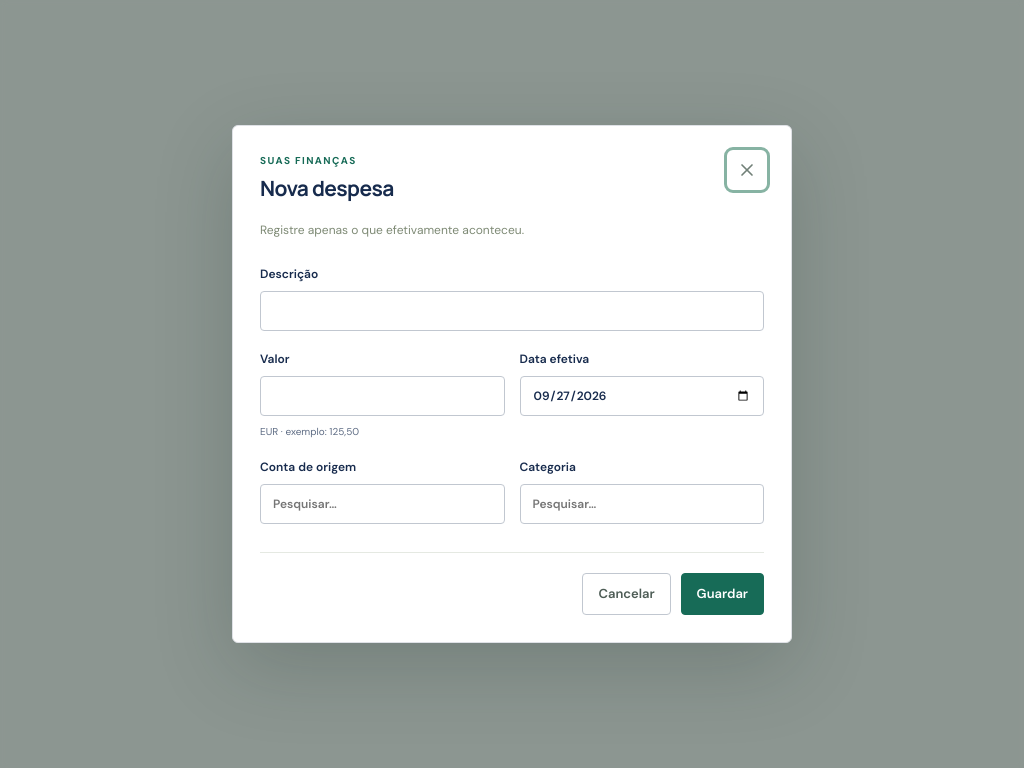
financial UI flows › normalizes comma decimals and preserves user values after server rejection
Type "Mercado" into the field labelled "Descrição".
click(512, 311); type("Mercado")  # box [260, 291, 764, 331]
Type "12,50" into the field labelled "Valor EUR · exemplo: 125,50".
click(382, 396); type("12,50")  # box [260, 376, 504, 416]
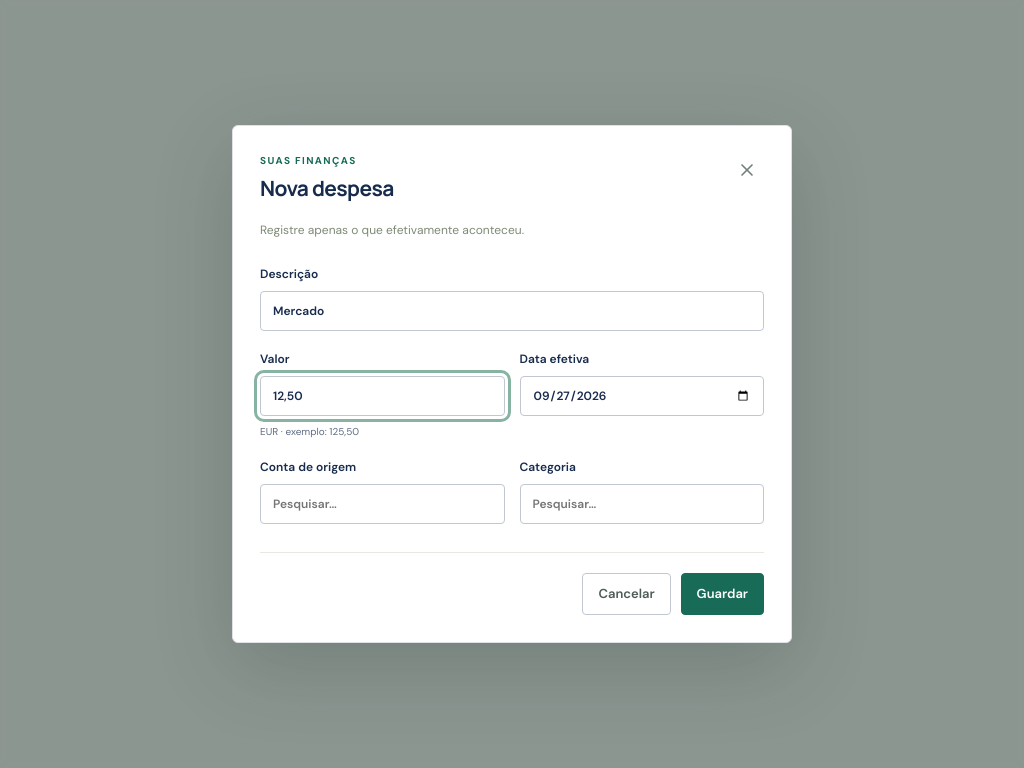
Click the dropdown labelled "Conta de origem".
click(382, 504)  # box [260, 484, 504, 524]
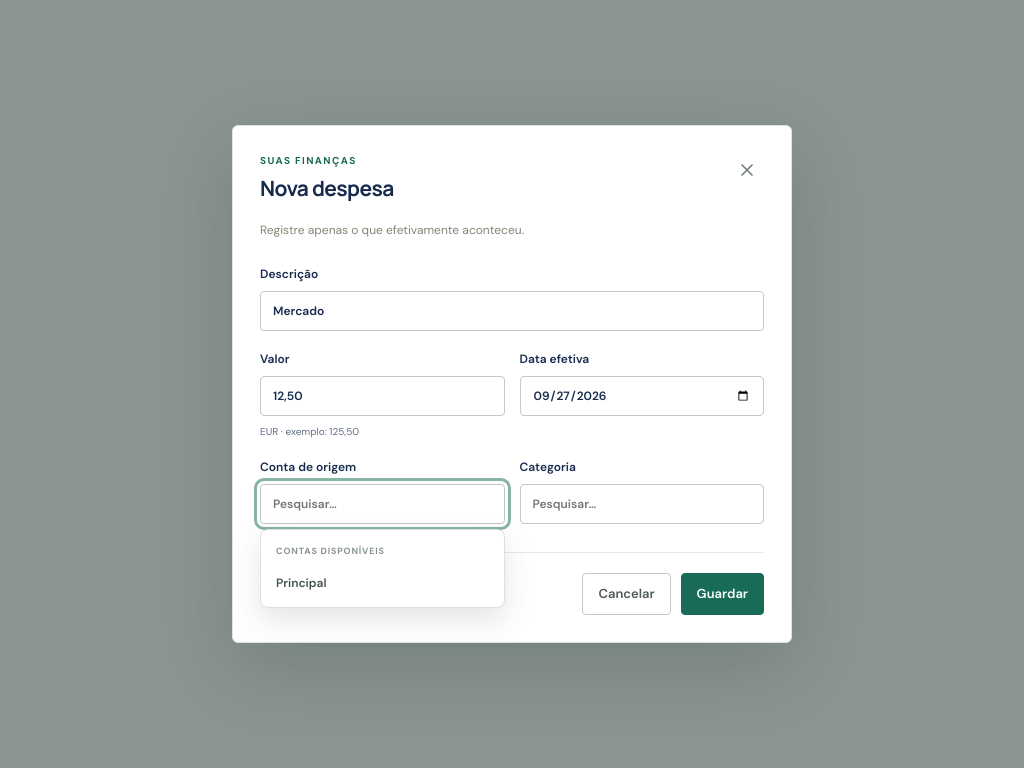
Click the option "Principal".
click(382, 583)  # box [266, 564, 498, 602]
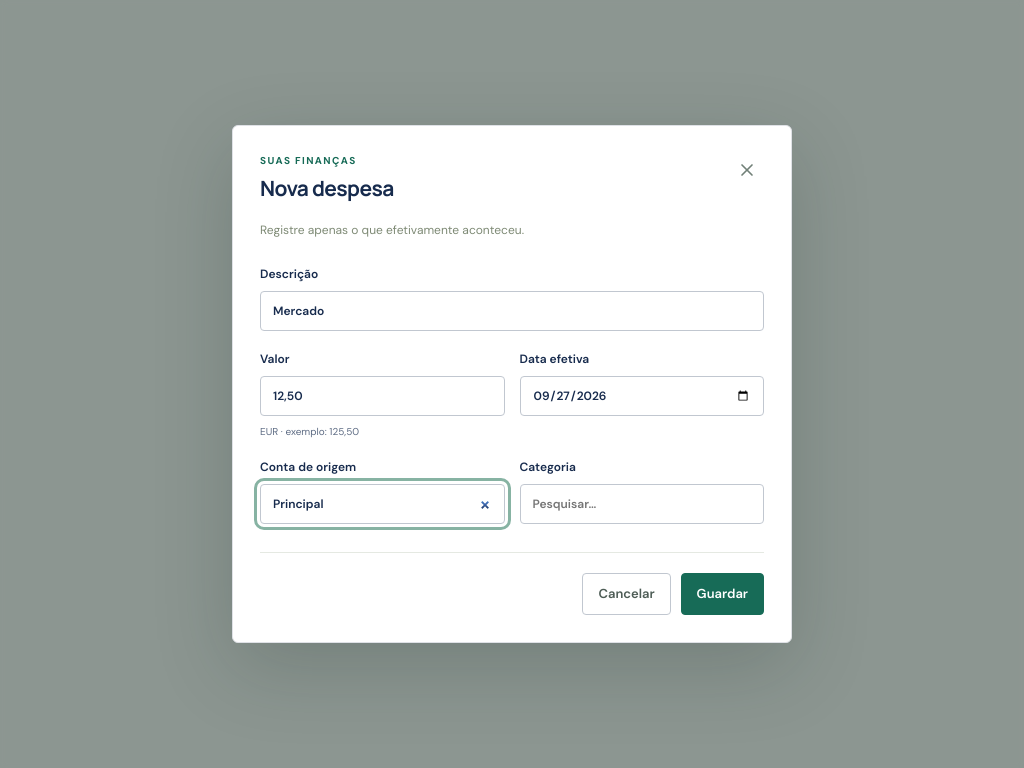
Click the dropdown labelled "Categoria".
click(642, 504)  # box [520, 484, 764, 524]
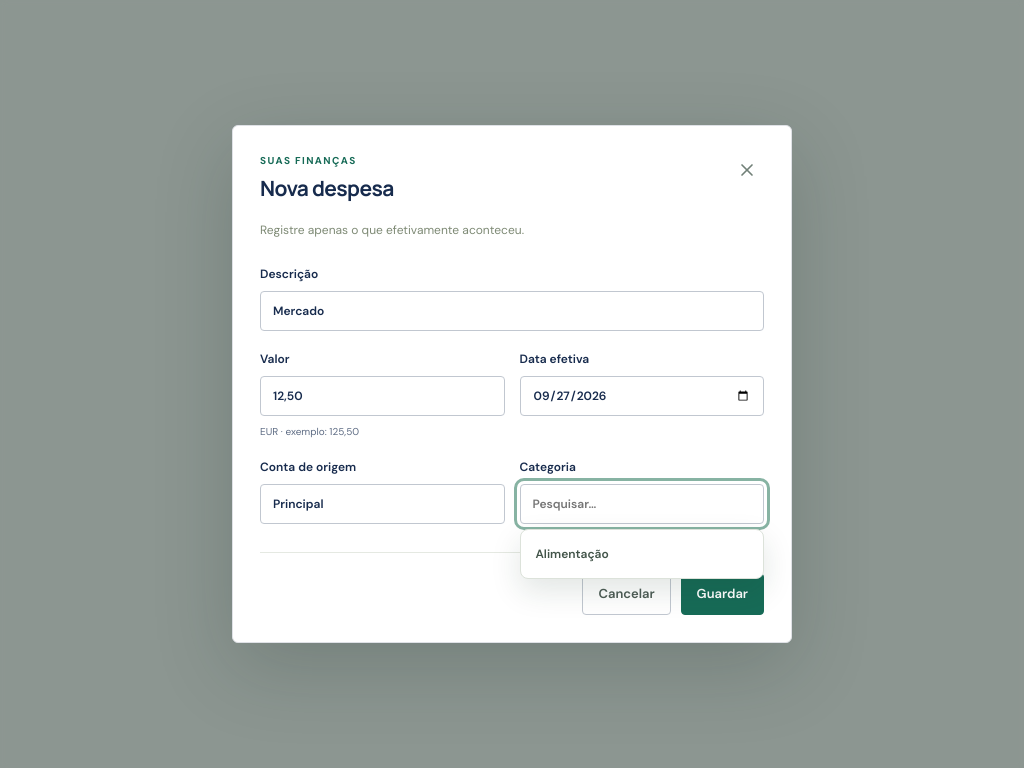
Click the option "Alimentação".
click(642, 554)  # box [526, 536, 758, 574]
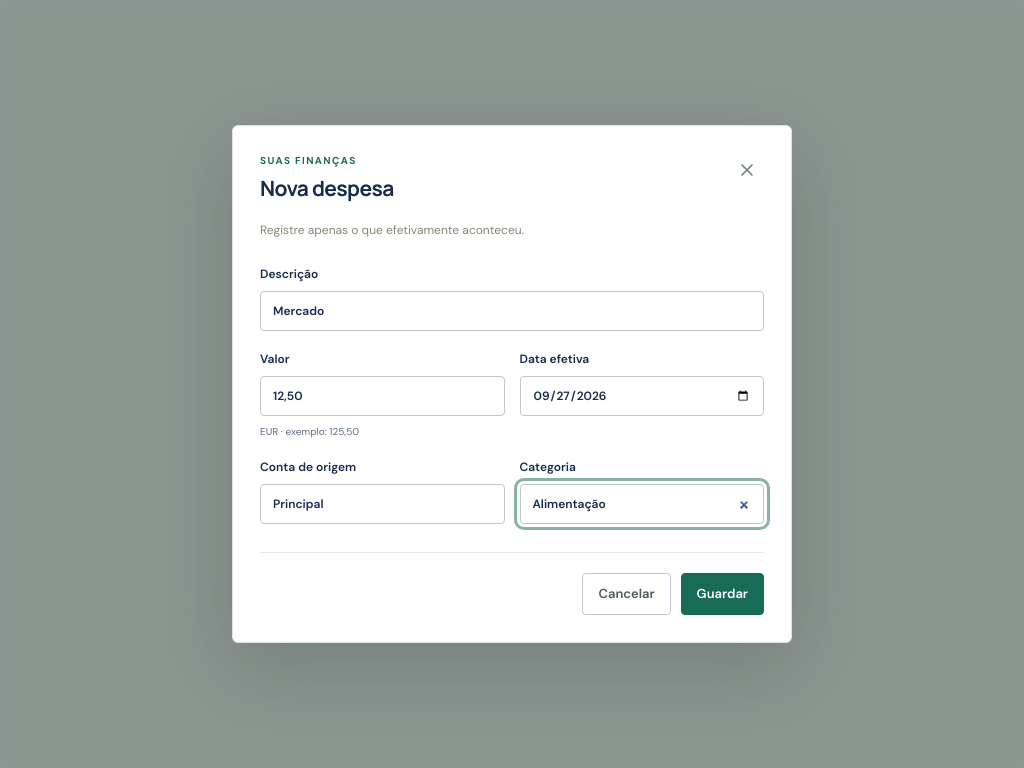
Click the button "Guardar".
click(722, 594)  # box [681, 574, 764, 615]
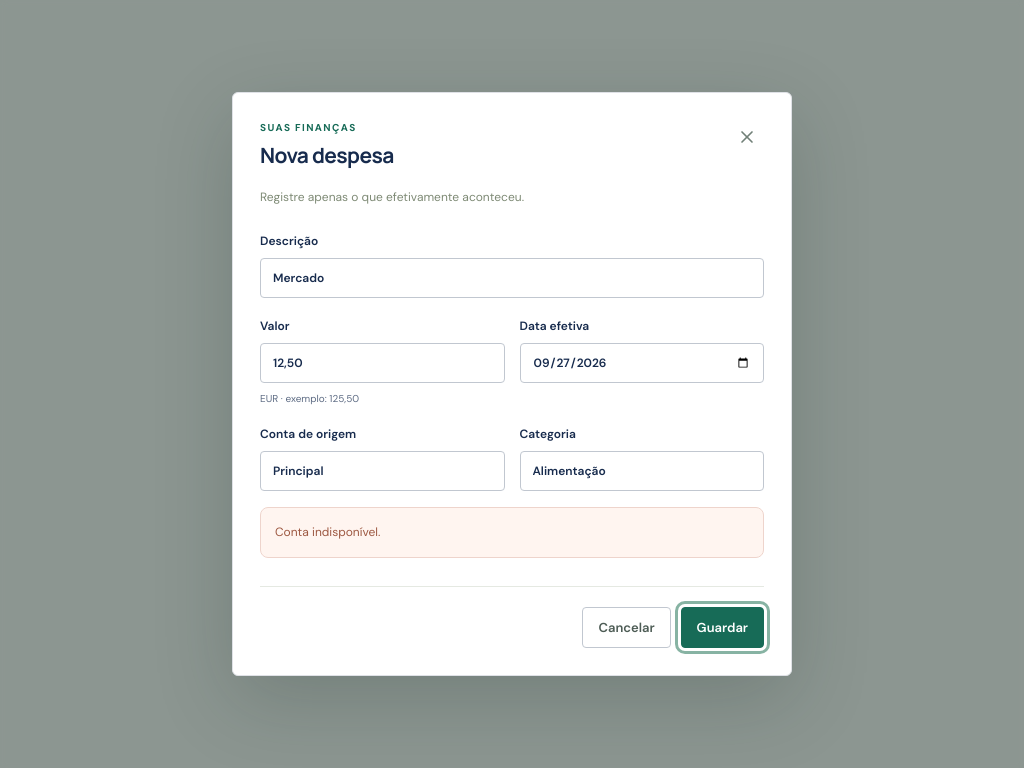
Expected: the message "Conta indisponível." is shown, [260, 507, 764, 558]
Expected: the message reads "Conta indisponível.", [275, 524, 380, 540]
